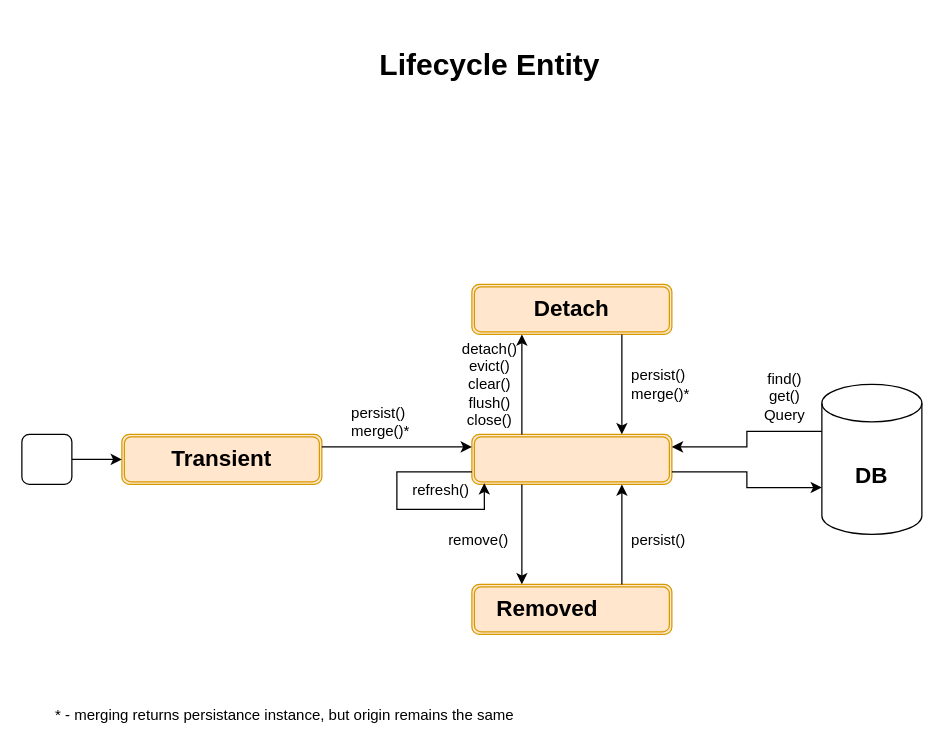
This 944x755 diagram has some shape labels left out. The shapes that lost their labels are listed below. From the top down, each one's centre as x and y in pixels, then its label:
the point at 46,458: new
the point at 571,458: Persistent
